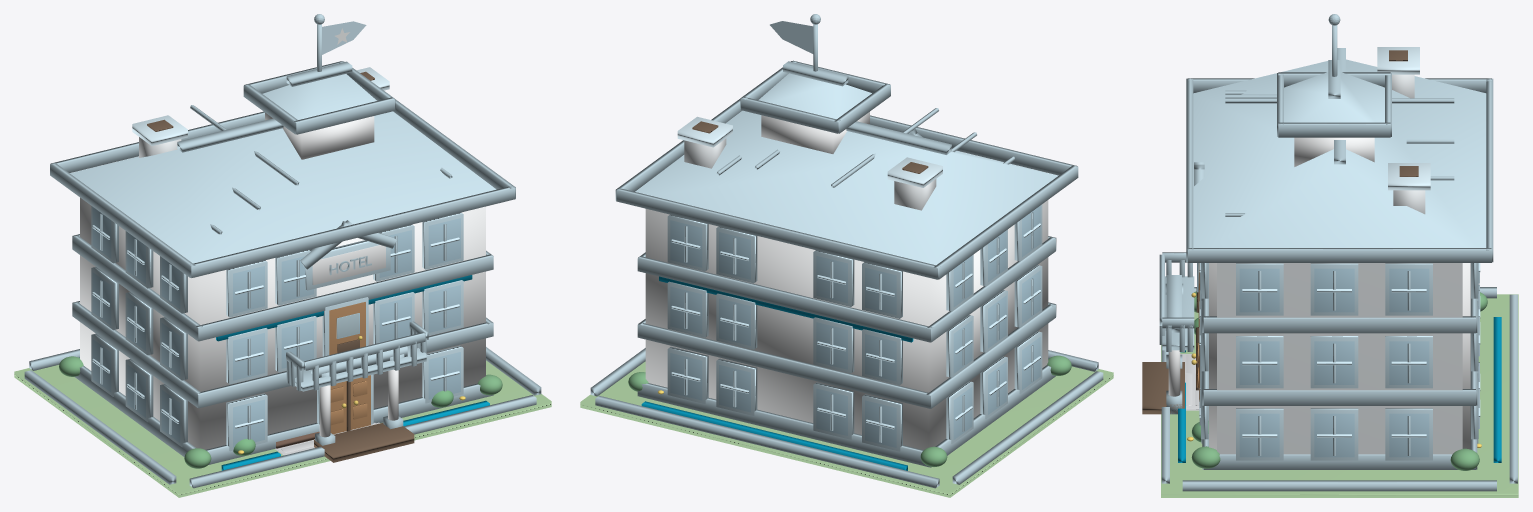
Rendered from hotel_detallado_lightBlue.glb.
3 renders of one model, left to right at view 1: azimuth 30°, elevation 25°; view 2: azimuth 150°, elevation 25°; view 3: azimuth 270°, elevation 25°, orthographic. The views are drawn at different scales.
Visible parts, largest first — view 1: Hotel_Techo_Principal, Hotel_Cuerpo_Principal, Hotel_Grama_Base, Hotel_Techo_Principal_Fascia_Frontal, Hotel_Zocalo_Frontal_Nivel_3, Hotel_Torre_Central_Techo, Hotel_Zocalo_Frontal_Nivel_2, Hotel_Techo_Principal_Fascia_Izquierda, Hotel_Zocalo_Frontal_Nivel_1, Hotel_Torre_Central_Pared, Hotel_Entrada_Escalon, Hotel_Zocalo_Izquierdo_Nivel_2 (+57 smaller); view 2: Hotel_Techo_Principal, Hotel_Cuerpo_Principal, Hotel_Grama_Base, Hotel_Zocalo_Trasero_Nivel_3, Hotel_Zocalo_Trasero_Nivel_2, Hotel_Techo_Principal_Fascia_Trasera, Hotel_Borde_Base_Trasero, Hotel_Zocalo_Trasero_Nivel_1, Hotel_Torre_Central_Techo, Hotel_Techo_Principal_Fascia_Izquierda, Hotel_Techo_Principal_Fascia_Frontal, Hotel_Zocalo_Izquierdo_Nivel_2 (+56 smaller); view 3: Hotel_Techo_Principal, Hotel_Pared_Lateral_Azulada, Hotel_Grama_Base, Hotel_Zocalo_Derecho_Nivel_3, Hotel_Techo_Principal_Fascia_Derecha, Hotel_Zocalo_Derecho_Nivel_2, Hotel_Torre_Central_Techo, Hotel_Borde_Base_Lateral_Derecho, Hotel_Zocalo_Derecho_Nivel_1, Hotel_Cuerpo_Principal, Hotel_Torre_Central_Techo_Fascia_Derecha, Hotel_Borde_Base_Trasero (+40 smaller).
Part boxes in pixels (x1,y1,x2,y2): Hotel_Techo_Principal: (70,111,496,263); Hotel_Cuerpo_Principal: (80,197,485,449); Hotel_Grama_Base: (14,360,551,497); Hotel_Techo_Principal_Fascia_Frontal: (191,186,515,277); Hotel_Zocalo_Frontal_Nivel_3: (196,254,493,341); Hotel_Torre_Central_Techo: (262,74,376,119); Hotel_Zocalo_Frontal_Nivel_2: (198,322,493,408); Hotel_Techo_Principal_Fascia_Izquierda: (50,163,195,277); Hotel_Zocalo_Frontal_Nivel_1: (206,383,493,464); Hotel_Torre_Central_Pared: (265,112,374,159); Hotel_Entrada_Escalon: (314,423,414,462); Hotel_Zocalo_Izquierdo_Nivel_2: (72,302,200,407); Hotel_Techo_Principal: (635,110,1058,265); Hotel_Cuerpo_Principal: (645,200,1048,449); Hotel_Grama_Base: (580,361,1113,497); Hotel_Zocalo_Trasero_Nivel_3: (637,256,932,342); Hotel_Zocalo_Trasero_Nivel_2: (637,323,930,408); Hotel_Techo_Principal_Fascia_Trasera: (616,188,937,279); Hotel_Borde_Base_Trasero: (595,395,939,488); Hotel_Zocalo_Trasero_Nivel_1: (637,383,930,467); Hotel_Torre_Central_Techo: (758,73,871,119); Hotel_Techo_Principal_Fascia_Izquierda: (934,165,1078,279); Hotel_Techo_Principal_Fascia_Frontal: (870,115,1077,175); Hotel_Zocalo_Izquierdo_Nivel_2: (926,303,1055,408); Hotel_Techo_Principal: (1193,59,1486,247); Hotel_Pared_Lateral_Azulada: (1217,263,1462,454); Hotel_Grama_Base: (1161,294,1518,497); Hotel_Zocalo_Derecho_Nivel_3: (1203,316,1475,333); Hotel_Techo_Principal_Fascia_Derecha: (1187,248,1491,262); Hotel_Zocalo_Derecho_Nivel_2: (1203,389,1475,405); Hotel_Torre_Central_Techo: (1284,72,1384,122); Hotel_Borde_Base_Lateral_Derecho: (1182,480,1496,491); Hotel_Zocalo_Derecho_Nivel_1: (1203,454,1475,469); Hotel_Cuerpo_Principal: (1209,263,1470,449); Hotel_Torre_Central_Techo_Fascia_Derecha: (1278,122,1390,137); Hotel_Borde_Base_Trasero: (1509,294,1517,483).
Bounding box in the file's own units: 1.75 × 1.67 × 1.41.
